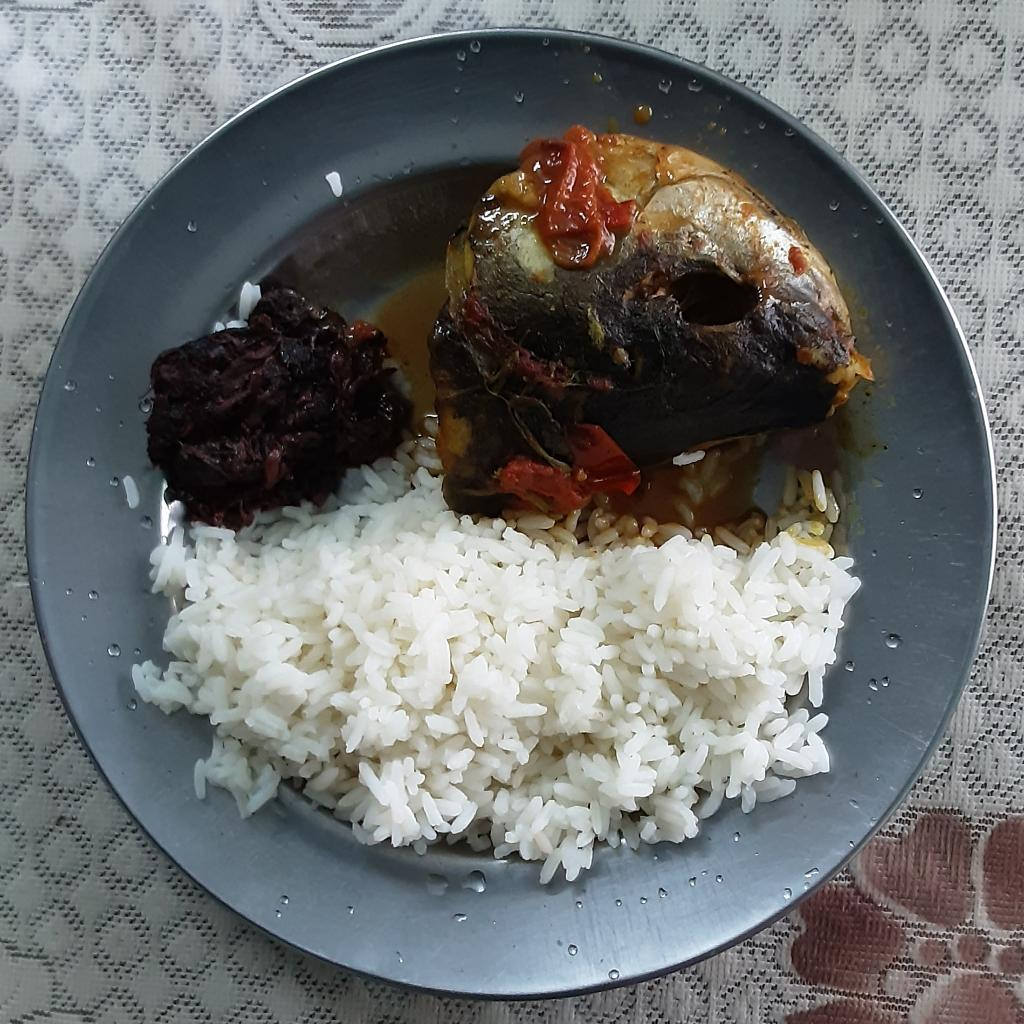fish: (426, 134, 876, 521)
lal-shak: (148, 269, 429, 530)
rice: (127, 444, 860, 887)
tomato: (519, 124, 642, 270), (502, 418, 648, 516)
